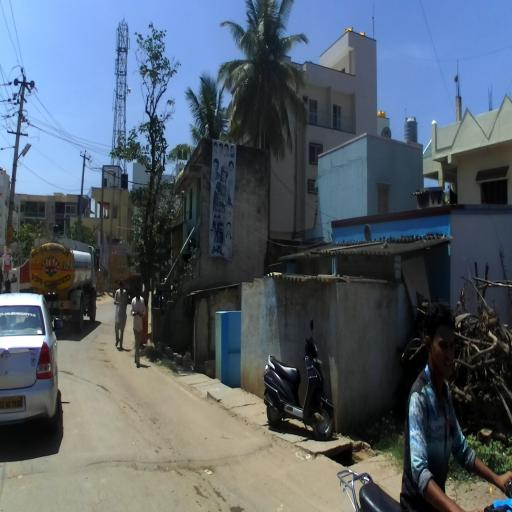street_light_0: (9, 142, 32, 184)
